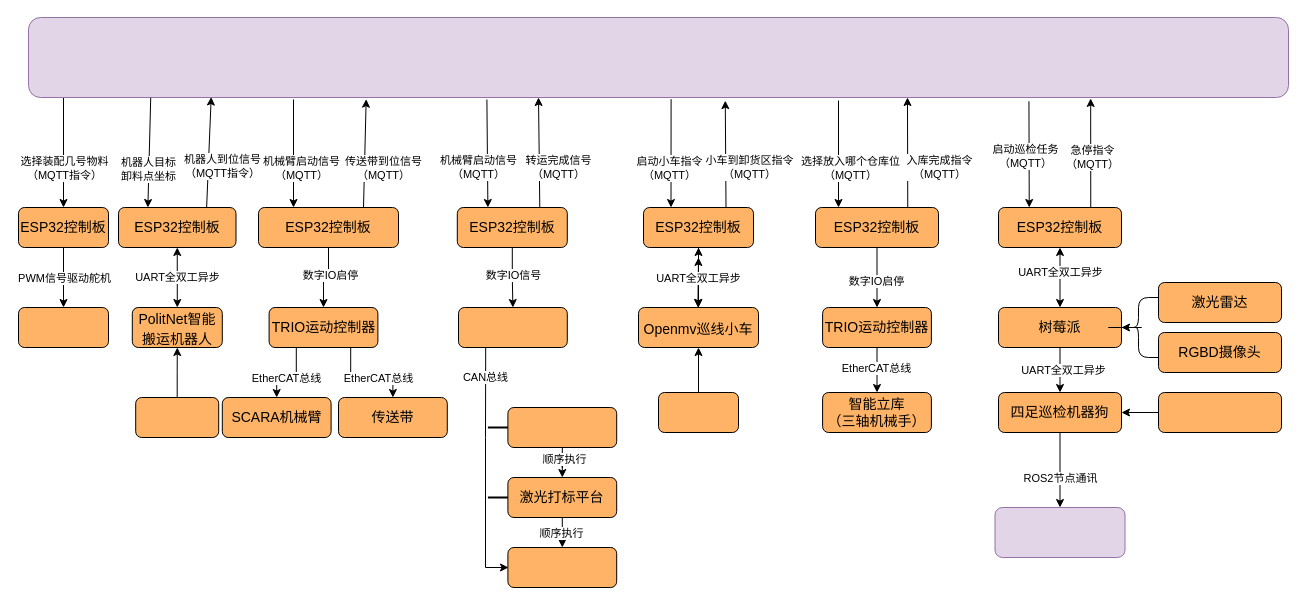
Some shapes in this 1306 by 605 pixel diagram are drawn without their labels. Each missing label, with the centre of its shape:
ABB机械臂 （装配）: the point at 562,427
IMU传感器: the point at 1220,412
KUKA机械臂 （转运）: the point at 562,567
Linux电脑监控产线实际状态: the point at 1059,532
openmv: the point at 698,412
手机摄像头: the point at 177,417
机器人控制柜: the point at 512,327
树莓派主服务器: the point at 658,57
物联网仓库: the point at 63,327
